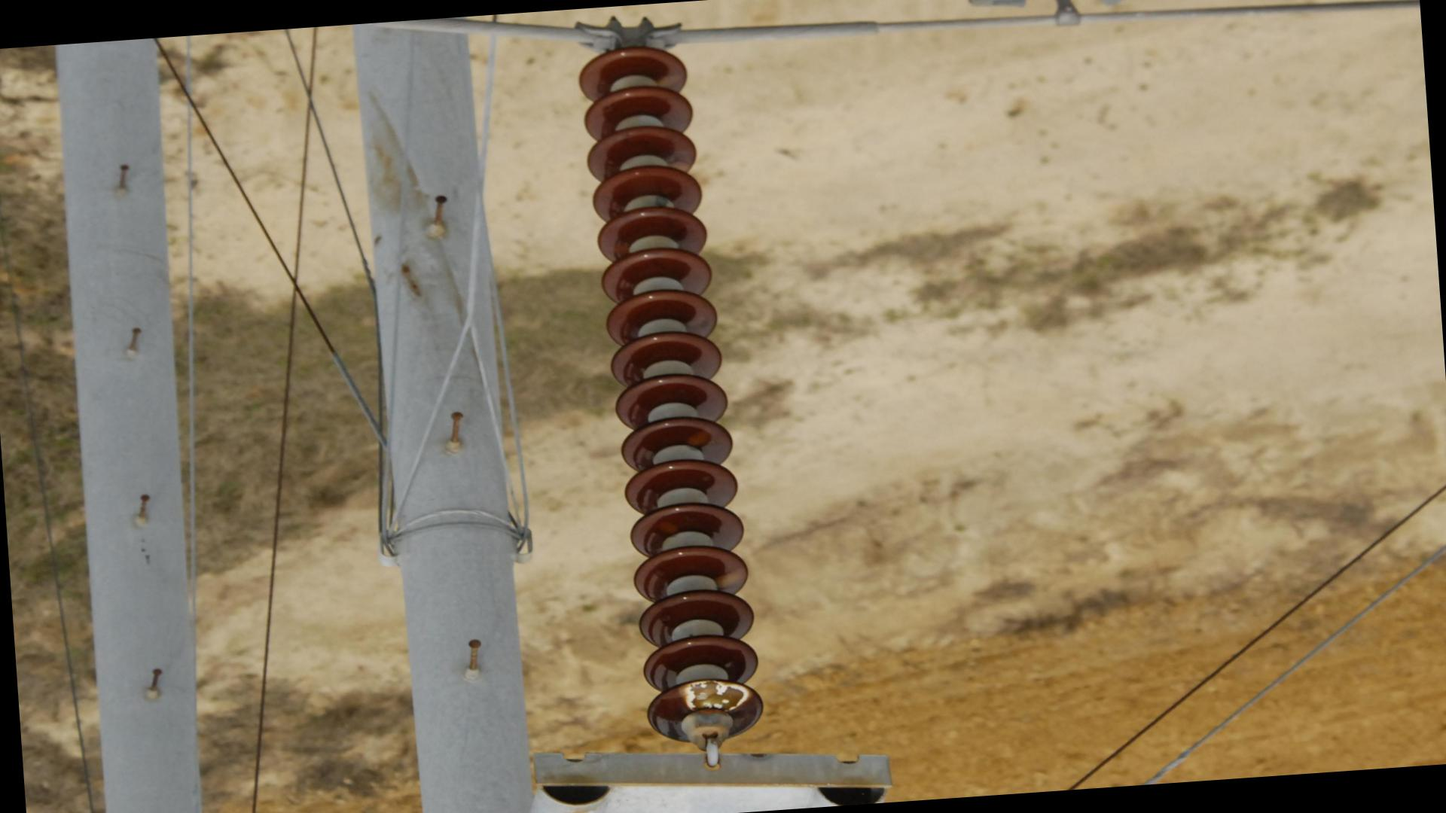damper: (959, 1, 1182, 41)
